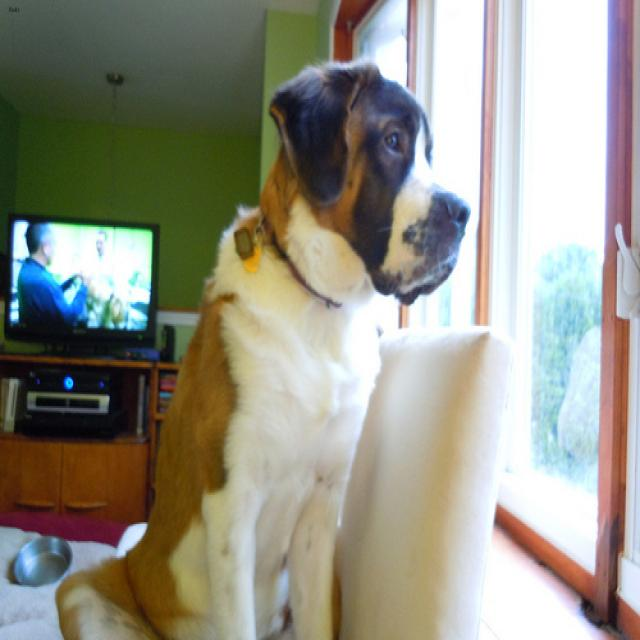dog-saint_bernard: (45, 48, 481, 637)
